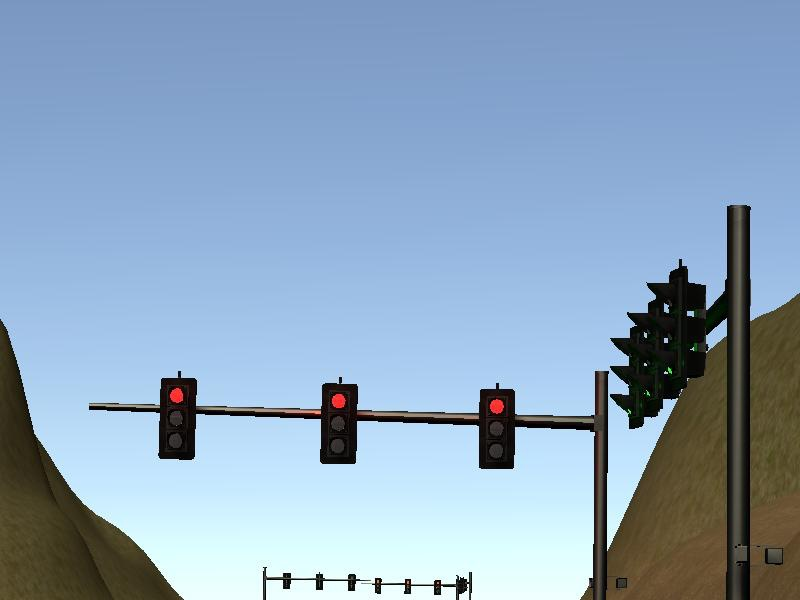Red: (317, 381, 359, 466), (155, 376, 197, 461), (476, 387, 516, 472)
